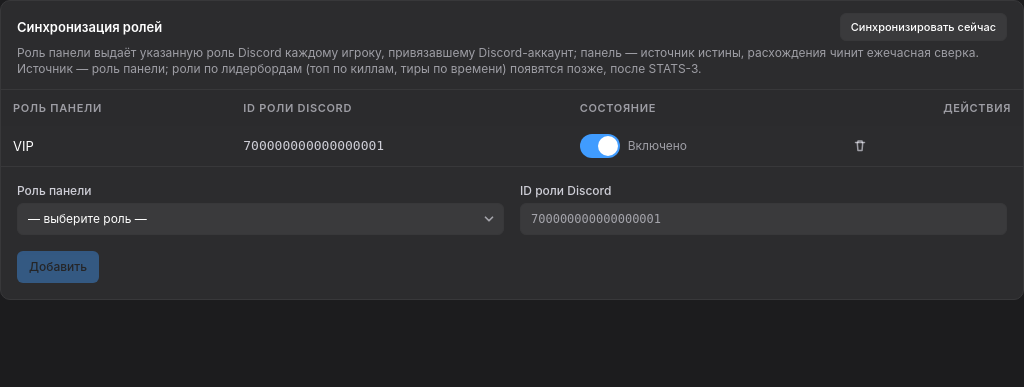
it: DiscordRoleMappingsSection › surfaces a network error from a mutation instead of failing silently (#706)
The image size is (1024, 387).
Click the button "Синхронизировать сейчас" at (923, 27), box [840,13,1007,41]
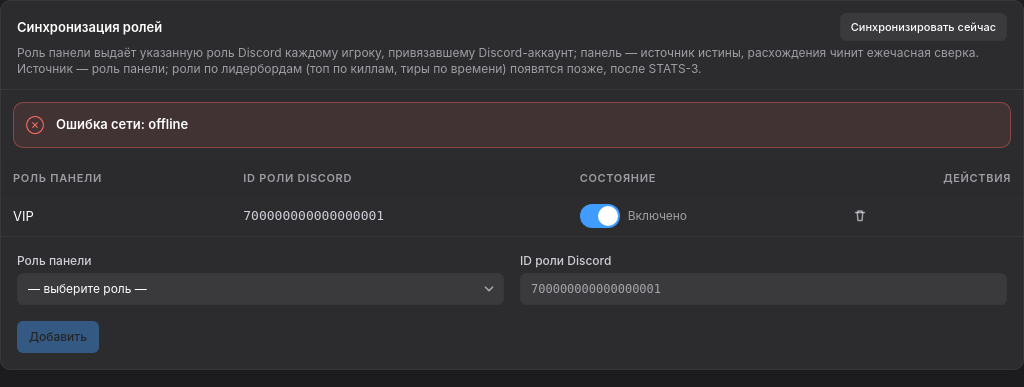
Expected: the text "Ошибка сети: offline" is shown, [56,116,188,132]
